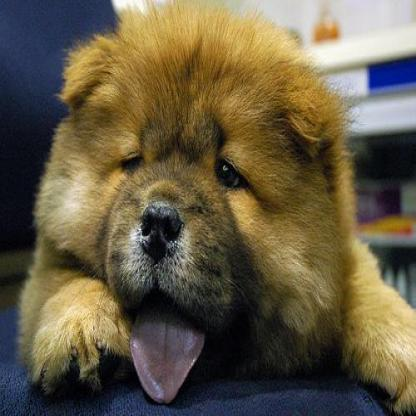chow: (18, 6, 414, 414)
